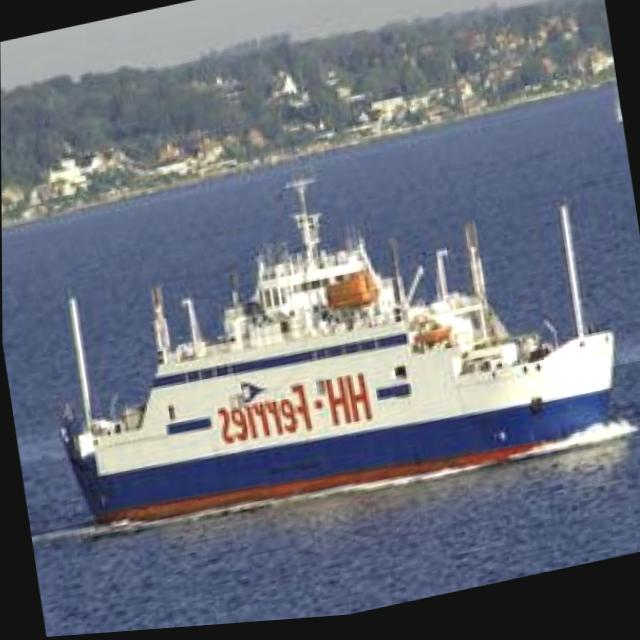ship2: (57, 184, 619, 541)
